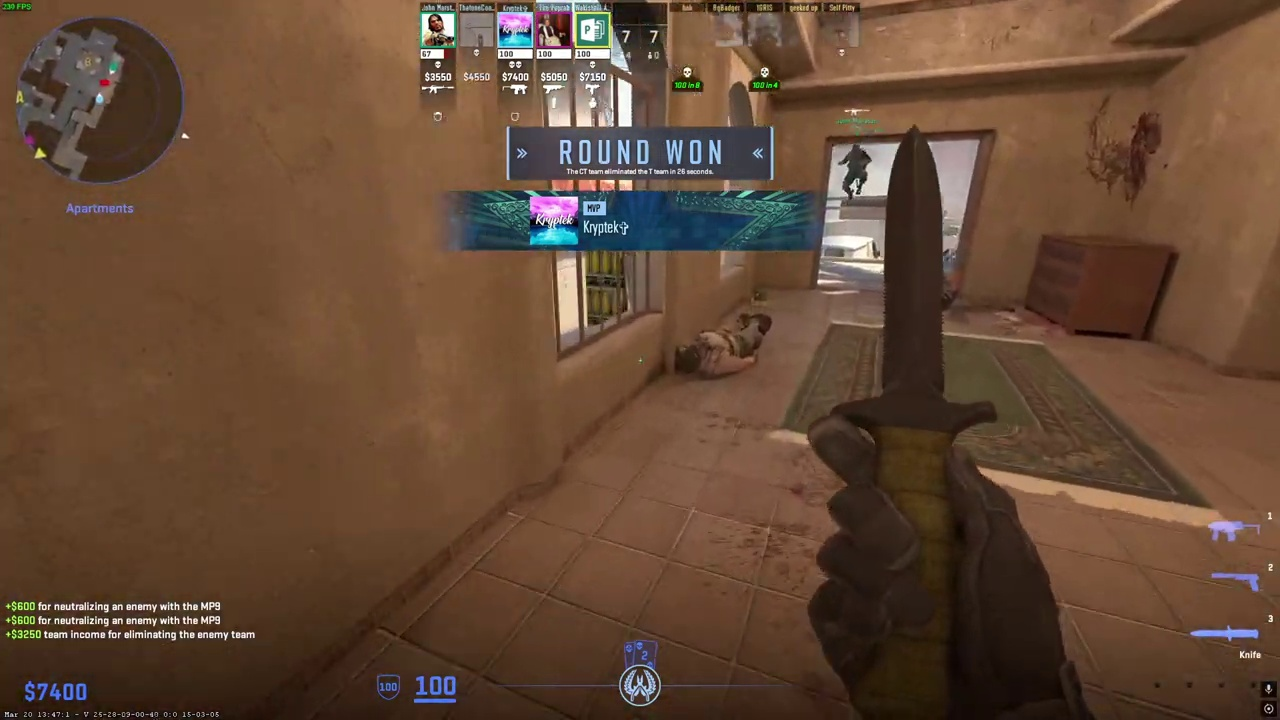CT: (841, 144, 869, 200)
